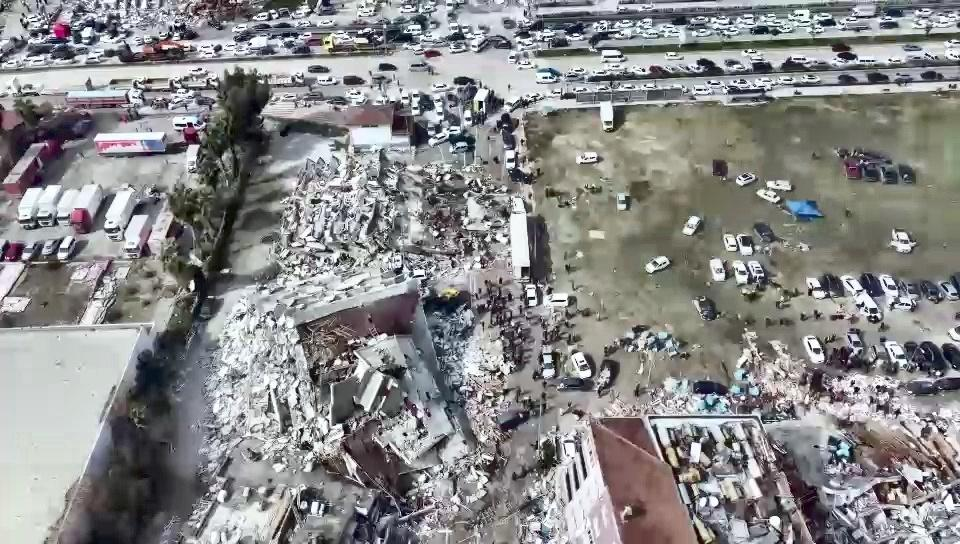kapali: (394, 279, 541, 543), (409, 142, 513, 278)
